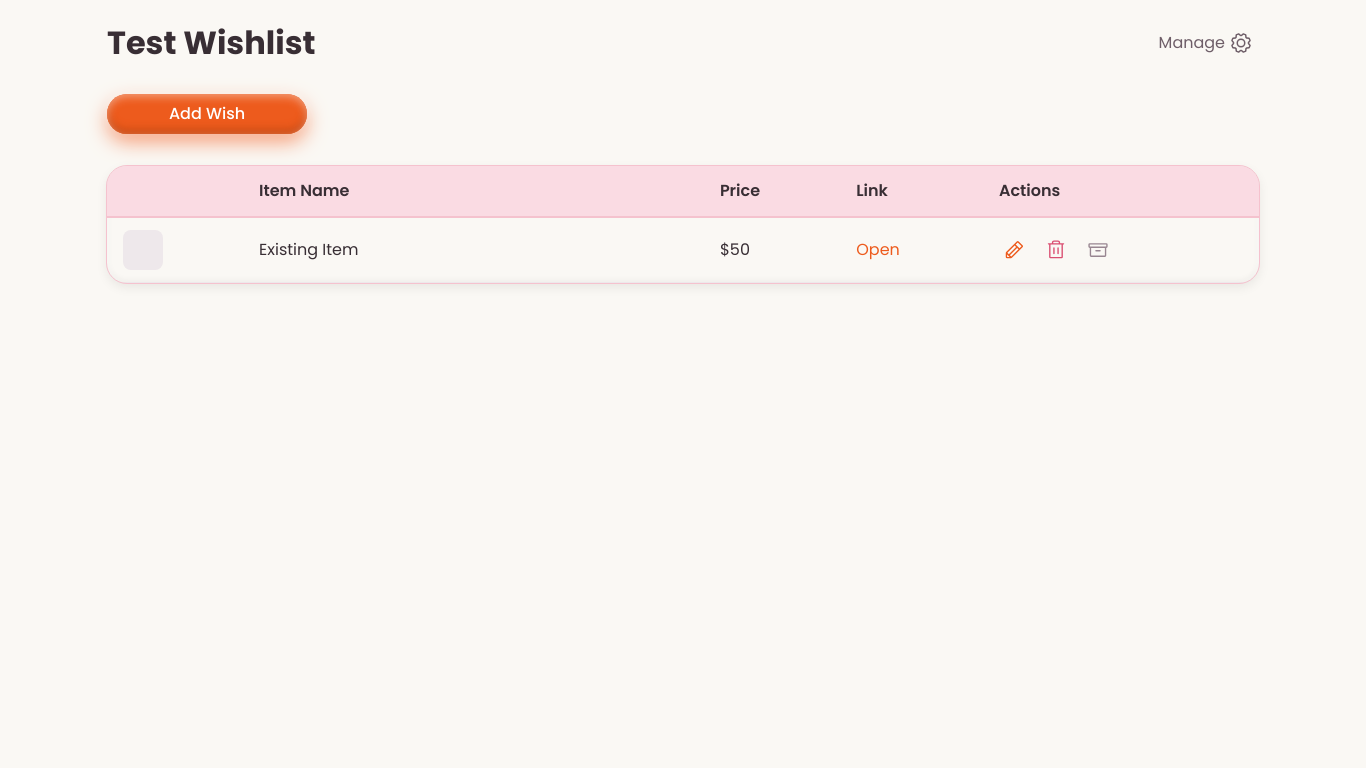
it: WishlistPage › opens add item modal when Add Wish button is clicked
Expected: the heading "Test Wishlist" is shown, [107,24,316,62]
What coordinates should you click on to do the following:
click the button with test id "wishlist-add-button"
I would click on:
 (207, 114)
Its box is [107,94,307,134].
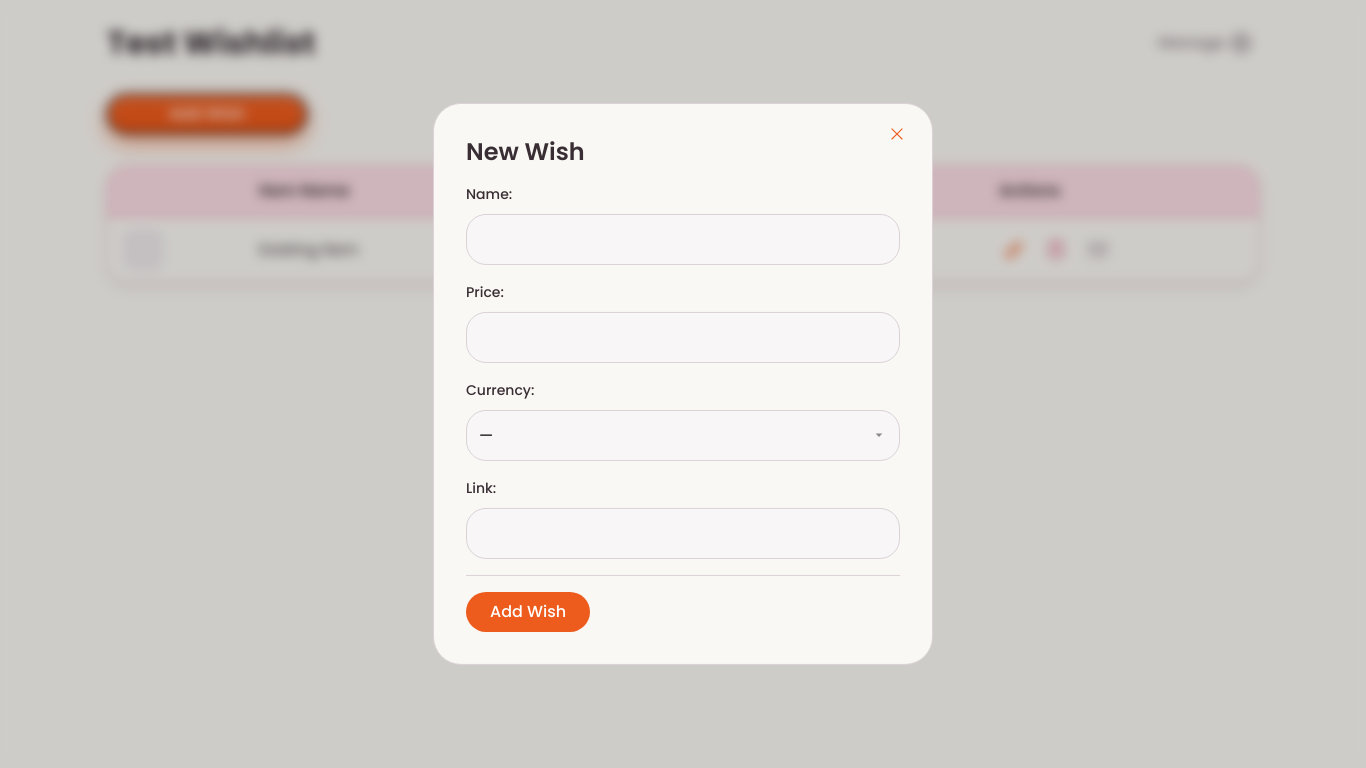
Result: the field with test id "add-item-modal-name-input" is shown at [466,214,900,265]
Result: the number field with test id "add-item-modal-price-input" is shown at [466,312,900,363]
Result: the dropdown with test id "add-item-modal-currency-select" is shown at [466,410,900,461]
